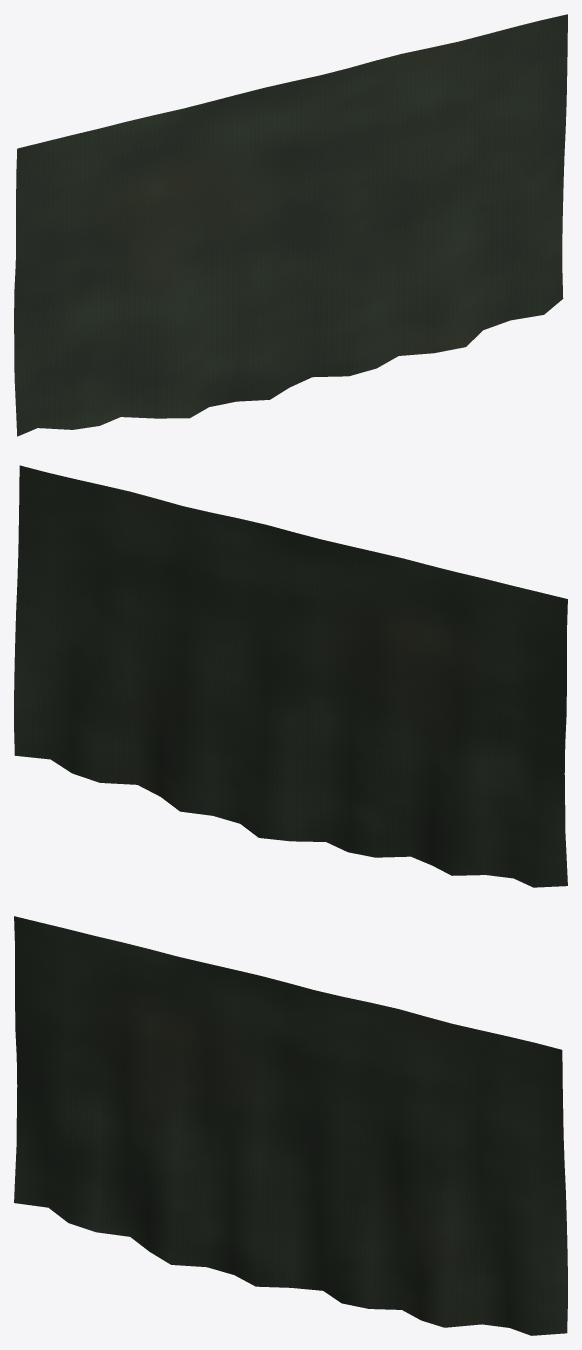
File: S7U_Tarp.fbx
3 views of the same model, one above another, from view 1: azimuth 30°, elevation 25°; view 2: azimuth 150°, elevation 25°; view 3: azimuth 330°, elevation 25° (orthographic).
Parts seen in each view (by area): view 1: S7U_Tarp; view 2: S7U_Tarp; view 3: S7U_Tarp.
Part boxes in pixels (box(x1,y1,x2,y2)): S7U_Tarp: box(14, 14, 567, 436); S7U_Tarp: box(14, 465, 567, 887); S7U_Tarp: box(14, 916, 567, 1335).
Size of the model in its own units: 2 by 1.07 by 0.0995.
